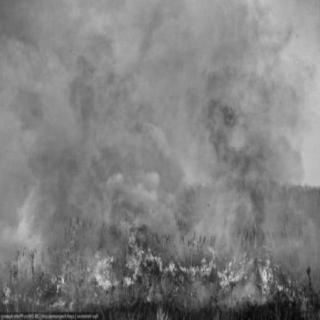Smoke: (22, 9, 144, 72)
